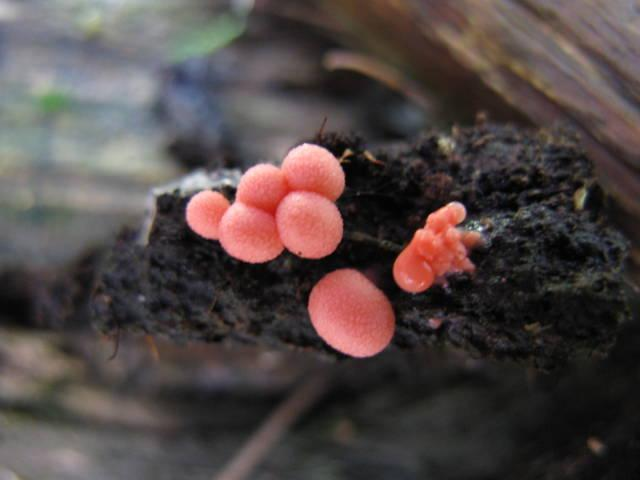Non-edible Mushroom: (182, 139, 486, 358), (184, 141, 347, 264), (391, 199, 485, 294), (306, 266, 396, 358), (274, 189, 344, 259)
